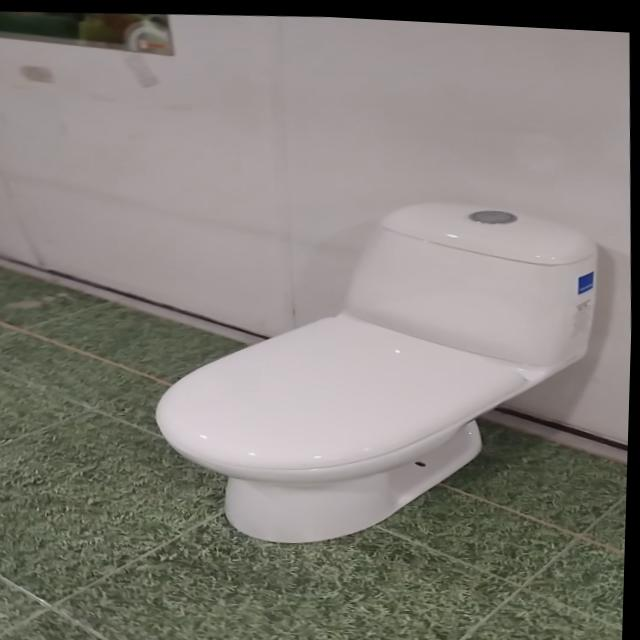toilet: (145, 178, 610, 557)
